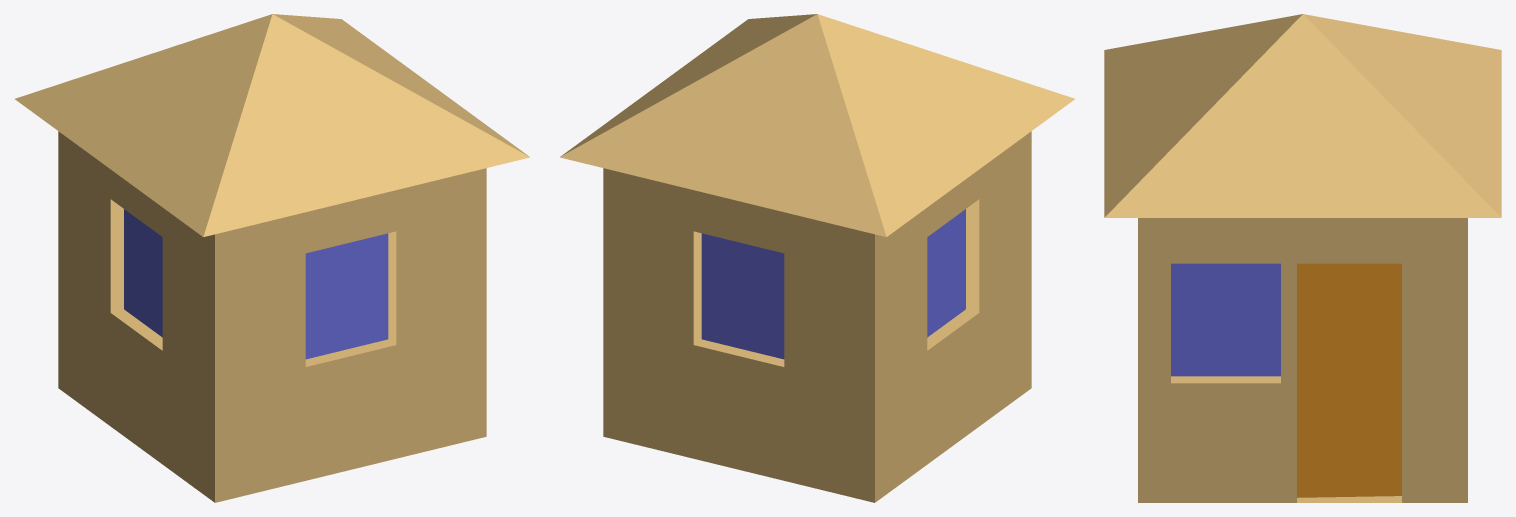
Rendered from sample-LOD02.glb.
3 views of the same model, side by side, from view 1: azimuth 30°, elevation 25°; view 2: azimuth 150°, elevation 25°; view 3: azimuth 270°, elevation 25° (orthographic). The views are drawn at different scales.
Parts seen in each view (by area): view 1: lod02- wall04, lod02- roof01, lod02- wall03, lod02- win03, lod02- win04; view 2: lod02- wall02, lod02- roof01, lod02- wall03, lod02- win02, lod02- win04; view 3: lod02- roof01, lod02- wall01, lod02- door01, lod02- win01.
Boxes of the visible parts, <box> form: lod02- wall04: <box>215,168,486,502</box>; lod02- roof01: <box>15,14,530,236</box>; lod02- wall03: <box>58,131,214,502</box>; lod02- win03: <box>305,233,388,359</box>; lod02- win04: <box>124,209,162,337</box>; lod02- wall02: <box>603,168,874,502</box>; lod02- roof01: <box>560,14,1074,236</box>; lod02- wall03: <box>875,131,1031,502</box>; lod02- win02: <box>701,233,784,359</box>; lod02- win04: <box>927,209,965,337</box>; lod02- roof01: <box>1104,14,1501,217</box>; lod02- wall01: <box>1138,218,1467,502</box>; lod02- door01: <box>1297,263,1401,497</box>; lod02- win01: <box>1171,263,1280,376</box>.
Size of the model in its own units: 2.41 by 2.8 by 2.41.
